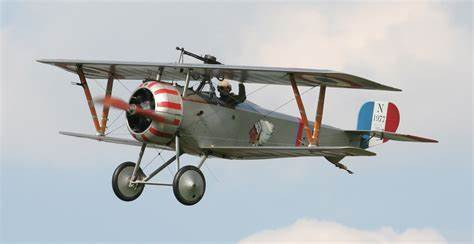Aeronef_militaire: (31, 42, 450, 210)
